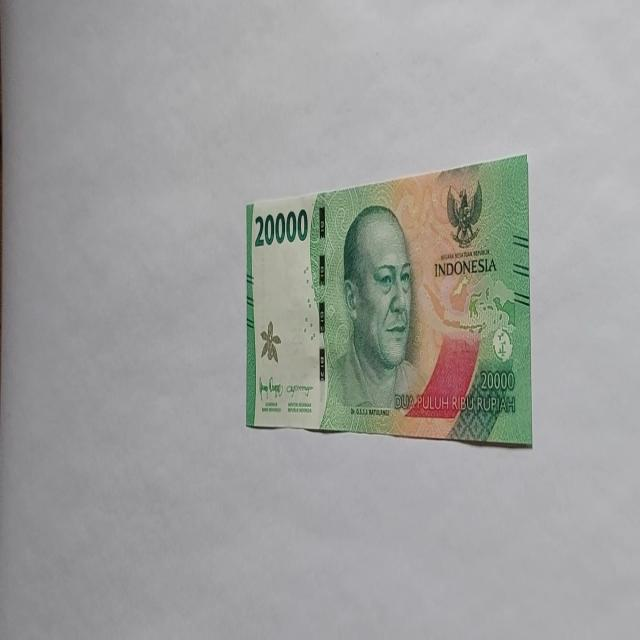dua puluh ribu rupiah: (244, 152, 532, 446), (322, 202, 429, 432)
